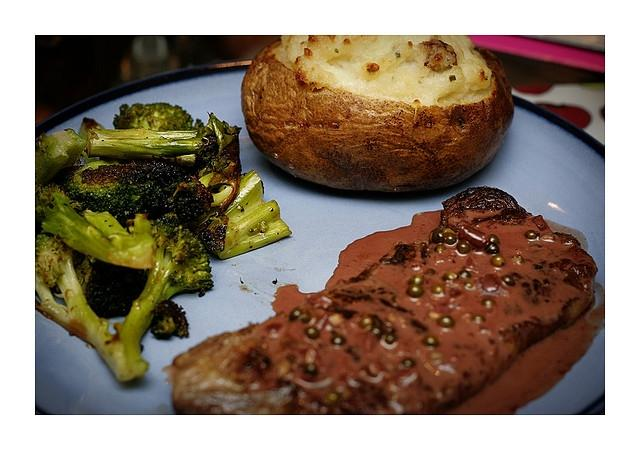broccoli: (49, 156, 206, 228), (84, 112, 242, 178), (41, 192, 156, 270), (211, 169, 292, 261), (35, 128, 88, 186), (112, 102, 205, 130), (35, 235, 67, 287)
potato: (240, 34, 514, 192)
